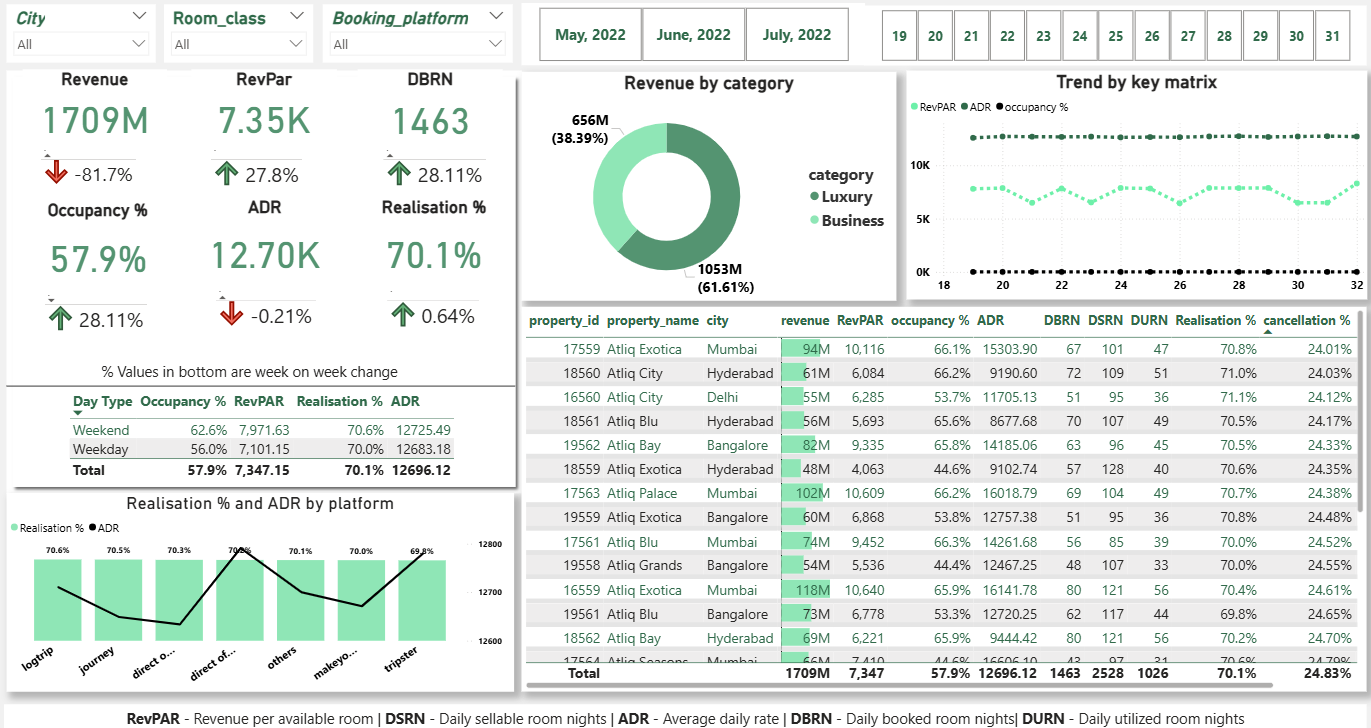

What the dashboard file says about the page in this screenshot:
{"tool":"powerbi","page":{"name":"DASHBOARD","canvas":[2000,1084],"ordinal":0},"visuals":[{"type":"shape","box":[10.9,112.5,748.5,614.2],"z":0,"group":"g1"},{"type":"slicer","fields":{"Values":["dim_hotels.city"]},"box":[10.6,16.6,217.2,84.5],"z":0},{"type":"card","title":"Revenue","fields":{"Values":["key_measures.revenue"]},"box":[34,110.8,209.3,106.4],"z":1000,"group":"g1"},{"type":"slicer","fields":{"Values":["dim_rooms.room_class"]},"box":[239.8,16.6,217,84.5],"z":1000},{"type":"card","title":"RevPar","fields":{"Values":["key_measures.RevPAR"]},"box":[280.5,110.8,211.1,106.4],"z":2000,"group":"g1"},{"type":"slicer","fields":{"Values":["fact_bookings.booking_platform"]},"box":[470.5,16.6,276,84.5],"z":2000},{"type":"card","title":"DBRN","fields":{"Values":["key_measures.DBRN"]},"box":[521.6,111.1,210.8,107.2],"z":3000,"group":"g1"},{"type":"slicer","fields":{"Values":["dim_date.week_num"]},"box":[1257.3,18.2,730.4,87.2],"z":3000},{"type":"slicer","fields":{"Values":["dim_date.mmm yy"]},"box":[758.7,14,498.8,90.7],"z":4000},{"type":"card","title":"Occupancy %","fields":{"Values":["key_measures.occupancy %"]},"box":[38.3,301.9,210.8,127.2],"z":4000,"group":"g1"},{"type":"group","id":"g1","title":"Group 1","box":[10.9,110.8,748.5,615.9],"z":5000},{"type":"card","title":"Realisation %","fields":{"Values":["key_measures.Realisation %"]},"box":[527.1,296.4,210.8,127.2],"z":5000,"group":"g1"},{"type":"card","title":"ADR","fields":{"Values":["key_measures.ADR"]},"box":[280,296.4,212.6,127.2],"z":6000,"group":"g1"},{"type":"lineStackedColumnComboChart","title":"Realisation % and ADR by platform","fields":{"Category":["fact_bookings.booking_platform"],"Y":["key_measures.Realisation %"],"Y2":["key_measures.ADR"]},"box":[10.9,726.7,737.6,288.9],"z":6000},{"type":"tableEx","title":".","fields":{"Values":["key_measures.Revenue WoW change %"]},"box":[54.7,211,174.4,79.9],"z":7000,"group":"g1"},{"type":"donutChart","title":"Revenue by category","fields":{"Category":["dim_hotels.category"],"Y":["key_measures.revenue"]},"box":[758.9,113.9,545.1,333],"z":7000},{"type":"tableEx","title":".","fields":{"Values":["key_measures.Revpar WoW change %"]},"box":[301.8,211,165.3,76.3],"z":8000,"group":"g1"},{"type":"lineChart","title":"Trend by key matrix","fields":{"Category":["dim_date.week_num"],"Y":["key_measures.RevPAR","key_measures.ADR","key_measures.occupancy %"]},"box":[1318,112.2,669.5,333],"z":8000},{"type":"tableEx","title":".","fields":{"Values":["key_measures.DSRN WoW change %"]},"box":[552.5,211,170.8,78.1],"z":9000,"group":"g1"},{"type":"tableEx","fields":{"Values":["dim_hotels.property_id","dim_hotels.property_name","dim_hotels.city","key_measures.revenue","key_measures.RevPAR","key_measures.occupancy %","key_measures.ADR","key_measures.DBRN","key_measures.DSRN","key_measures.DURN","key_measures.Realisation %","key_measures.cancellation %"]},"box":[759.4,456,1228.2,559.6],"z":9000},{"type":"tableEx","title":".","fields":{"Values":["key_measures.Occupancy WoW change %"]},"box":[60.1,421.8,170.8,85.4],"z":10000,"group":"g1"},{"type":"shape","box":[10.9,541.4,739.5,60],"z":10000},{"type":"tableEx","title":".","fields":{"Values":["key_measures.ADR WoW change %"]},"box":[309,416.3,174.4,89],"z":11000,"group":"g1"},{"type":"textbox","box":[7.3,1033.8,1980.4,50.9],"z":11000},{"type":"textbox","box":[143.7,530.6,488.7,56.3],"z":12000,"group":"g1"},{"type":"tableEx","title":".","fields":{"Values":["key_measures.Realisation WoW change %"]},"box":[558,416.3,165.3,76.3],"z":13000,"group":"g1"},{"type":"tableEx","fields":{"Values":["dim_date.day type","key_measures.occupancy %","key_measures.RevPAR","key_measures.Realisation %","key_measures.ADR"]},"box":[97,572.1,580.1,140.2],"z":14000,"group":"g1"}]}

Visuals, with their boxes in screenshot pixels (x1, y1, x2, y2), scaled from the page's 2000x1084 canvas onto the 1371x728 screenshot:
shape: select_region(7, 76, 521, 488)
slicer - dim_hotels.city: select_region(7, 11, 156, 68)
"Revenue" card: select_region(23, 74, 167, 146)
slicer - dim_rooms.room_class: select_region(164, 11, 313, 68)
"RevPar" card: select_region(192, 74, 337, 146)
slicer - fact_bookings.booking_platform: select_region(323, 11, 512, 68)
"DBRN" card: select_region(358, 75, 502, 147)
slicer - dim_date.week_num: select_region(862, 12, 1363, 71)
slicer - dim_date.mmm yy: select_region(520, 9, 862, 70)
"Occupancy %" card: select_region(26, 203, 171, 288)
"Group 1" group: select_region(7, 74, 521, 488)
"Realisation %" card: select_region(361, 199, 506, 284)
"ADR" card: select_region(192, 199, 338, 284)
"Realisation % and ADR by platform" lineStackedColumnComboChart: select_region(7, 488, 513, 682)
"." tableEx: select_region(37, 142, 157, 195)
"Revenue by category" donutChart: select_region(520, 76, 894, 300)
"." tableEx: select_region(207, 142, 320, 193)
"Trend by key matrix" lineChart: select_region(903, 75, 1362, 299)
"." tableEx: select_region(379, 142, 496, 194)
tableEx - dim_hotels.property_id x dim_hotels.property_name: select_region(521, 306, 1362, 682)
"." tableEx: select_region(41, 283, 158, 341)
shape: select_region(7, 364, 514, 404)
"." tableEx: select_region(212, 280, 331, 339)
textbox: select_region(5, 694, 1363, 727)
textbox: select_region(99, 356, 434, 394)
"." tableEx: select_region(383, 280, 496, 331)
tableEx - dim_date.day type x key_measures.occupancy %: select_region(66, 384, 464, 478)
